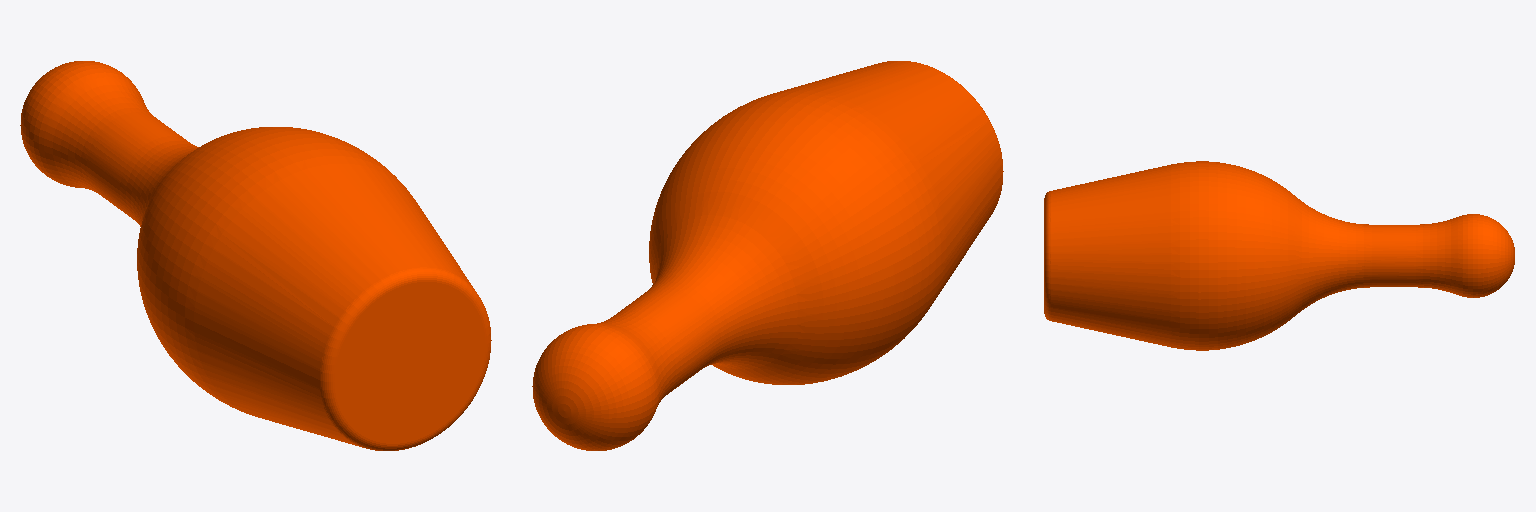
URDF robot description (objects):
<?xml  version="1.0"?>
<robot name ="objects"> 
    <!-- Author: [author]; e-mail:[email redacted]. The urdf file was develped in tongji university.-->

    <!--create  color params-->
    <material name ="LightGrey">
        <color rgba="0.7 0.7 0.7 1.0"/>
    </material>

    <material name ="White">
        <color rgba="1 1 1 1.0"/>
    </material>

    <material name ="Green">
        <color rgba="0.1 0. 1.0 1.0"/>
    </material>

    <material name ="Yellow">
        <color rgba="1. 1. 0. 1.0"/>
    </material>

    <material name ="Orange">
        <color rgba="1. 0.38 0. 1.0"/>
    </material>

    <material name ="Blue">
        <color rgba="0.69 0.87 0.9 1.0"/>
    </material>

    <mass name ="table_mass">
        <mass value="1.0"/>
    </mass>

    <mass name ="cylander_mass">
        <mass value="2.0"/>
    </mass>



    <link  name ="World"/>

    <joint name="cylinder1_to_world" type="floating">
        <parent link="World"/>
        <child link="cylinder1"/>
        <origin xyz="0. 0. 0." rpy="0.0 0.0 0.0"/>
    </joint>

    <link name = "cylinder1">
        <contact>
            <lateral_friction value="0.05"/>
            <rolling_friction value="0.0"/>
            <contact_erp value="1.0"/>
        </contact>
        <visual>
            <origin  xyz="0.0 0.0 0.0" rpy="0.0 0.0 0.0"/>
            <geometry>
                <mesh filename = "meshes/bowling.dae"/>
            </geometry >
            <material name ="Orange"/>
        </visual>
        <collision>
            <origin xyz="0.0 0.0 0.0" rpy="0.0 0.0 0.0"/>
            <geometry>
                <mesh filename ="meshes/bowling.dae"/>
            </geometry>
        </collision>
        <inertial>
            <mass value = "0.5"/>
            <inertia ixx="1" ixy="0.0" ixz="0.0" iyy="1" iyz="0.0" izz="1"/>
        </inertial>
    </link>
</robot>

--- Facts derived from the render (not from the file) ---
The picture shows the robot from 3 angles, left to right: view 1: azimuth 30°, elevation 25°; view 2: azimuth 150°, elevation 25°; view 3: azimuth 270°, elevation 25°; orthographic projection.
Model objects with 2 links and 1 joints (1 floating), rooted at World, posed all joints at 0.
Visible links, largest first — view 1: cylinder1; view 2: cylinder1; view 3: cylinder1.
Boxes of the visible links, <box> form: cylinder1: <box>20,61,491,450</box>; cylinder1: <box>532,61,1003,450</box>; cylinder1: <box>1044,161,1514,350</box>.
Size in the robot's own frame: 0.0482 by 0.12 by 0.0482 metres.
1 mesh visuals loaded from 1 distinct referenced files (1 Collada DAE).